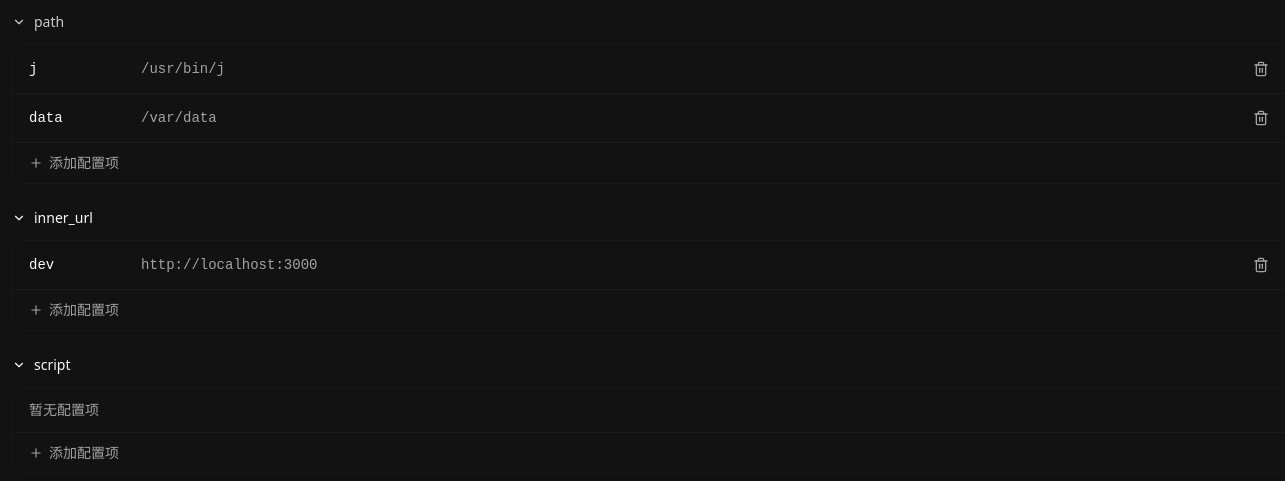
YamlConfigSettings › cancels edit mode on Escape and restores original value
The image size is (1285, 481).
Expected: the text "j" is shown, left=29, top=61, right=37, bottom=77
Note: 点击值以开始编辑
Click the text "/usr/bin/j" at {"x": 183, "y": 69}, box left=141, top=61, right=225, bottom=77
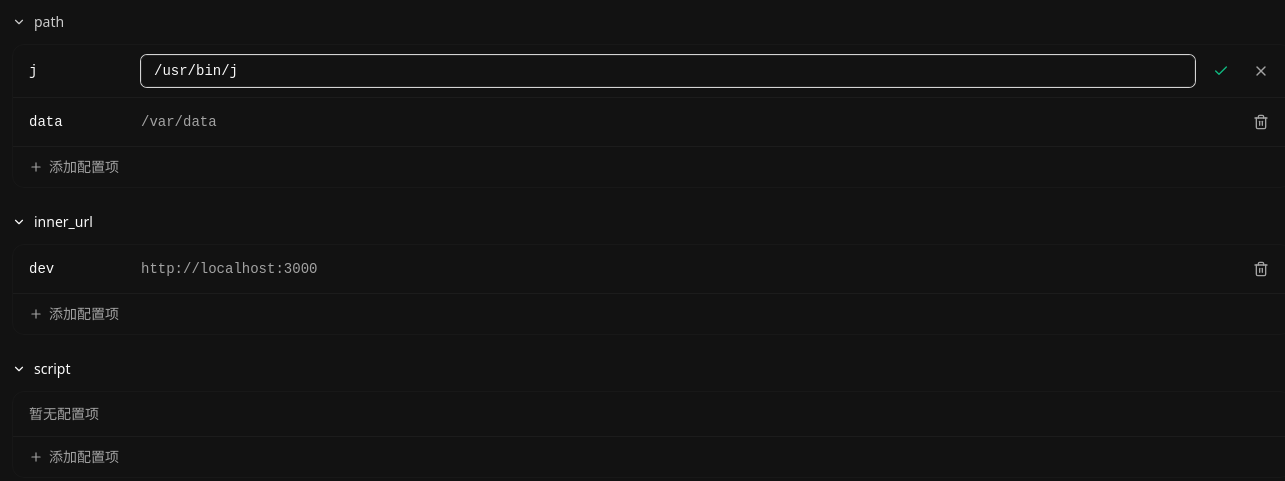
Now the field showing "/usr/bin/j" is shown
Note: 按下 Escape
Press Escape in the field showing "/usr/bin/j", box left=141, top=55, right=1195, bottom=87
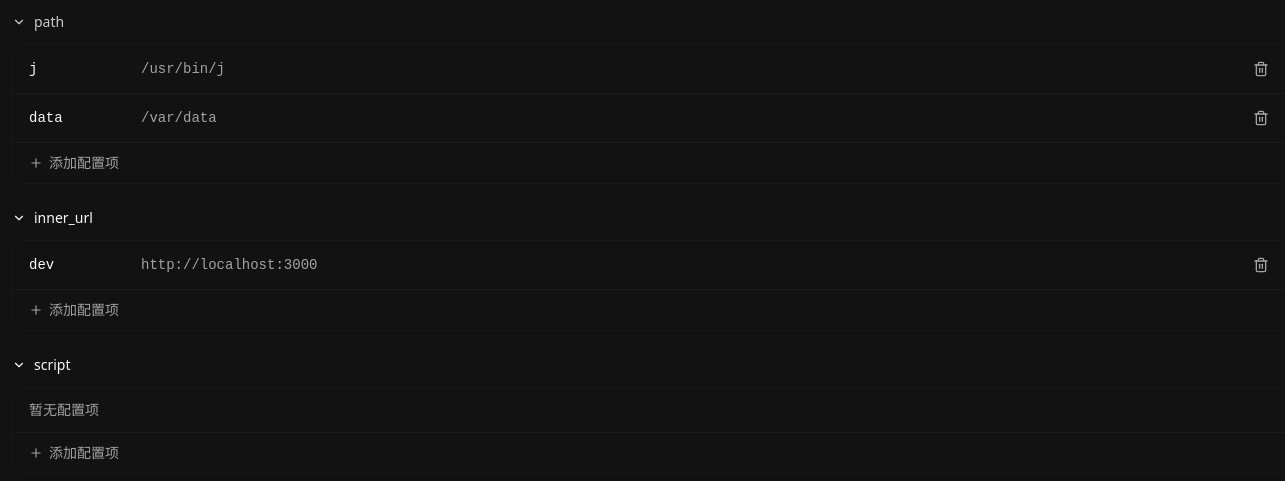
Now the text "/usr/bin/j" is shown, box left=141, top=61, right=225, bottom=77
